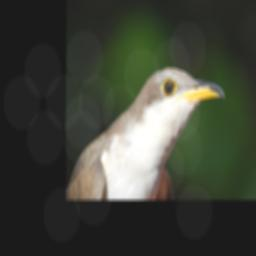Cuckoo: (66, 66, 225, 199)
